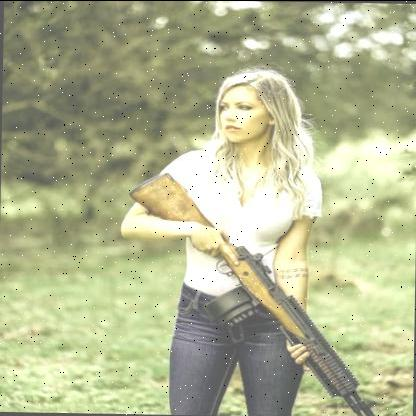rifle: (125, 165, 382, 416)
